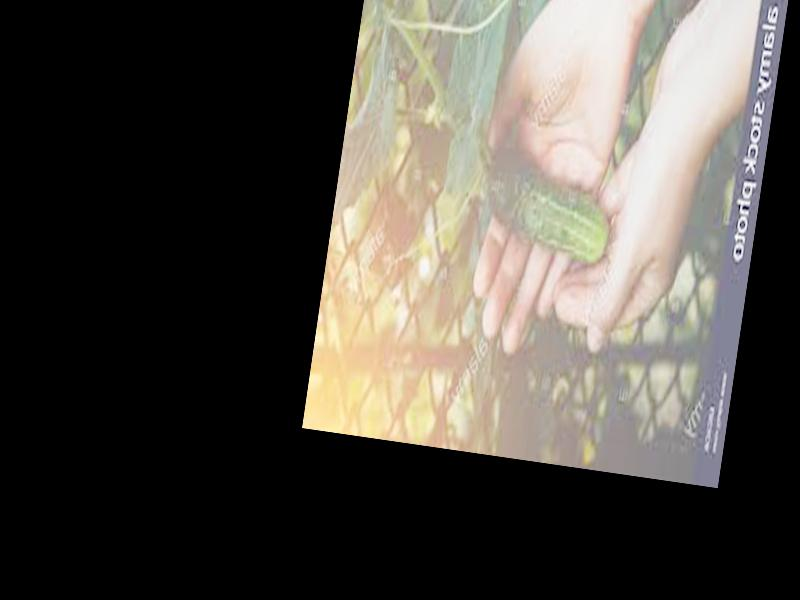Cucumber: (478, 149, 620, 267)
